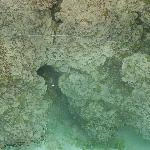dead: (3, 1, 148, 148)
